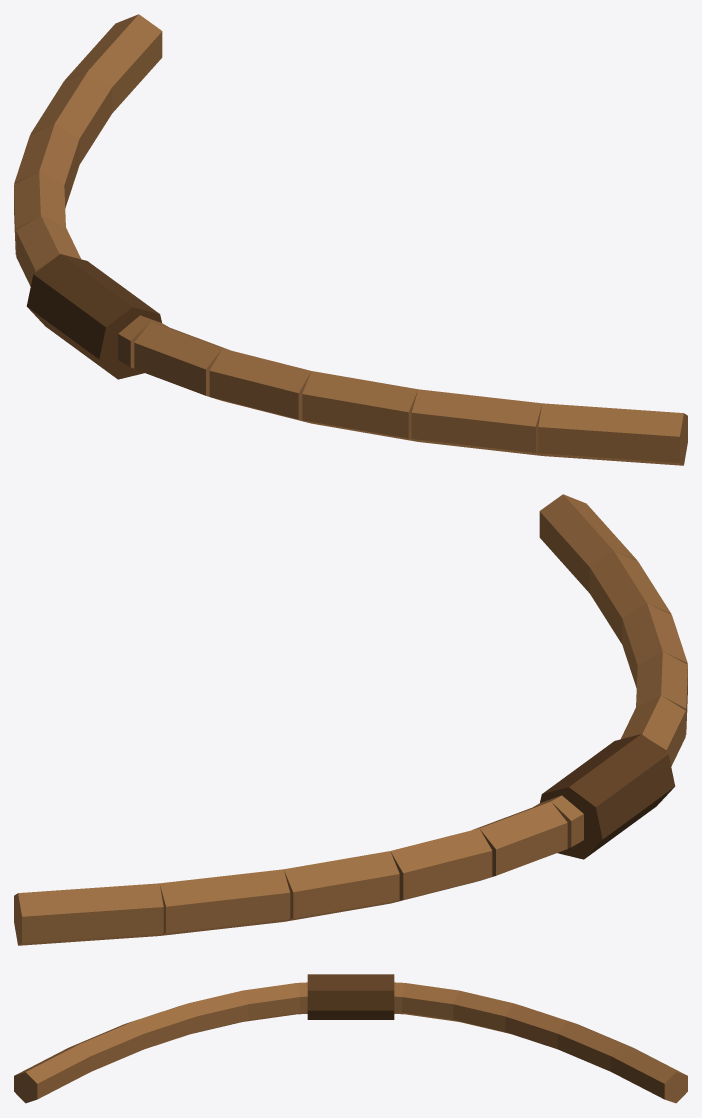
Rendered from drop_bow_unstrung.glb.
3 views of the same model, one above another, from view 1: azimuth 30°, elevation 25°; view 2: azimuth 150°, elevation 25°; view 3: azimuth 270°, elevation 25° (orthographic). The views are drawn at different scales.
Parts seen in each view (by area): view 1: drop_bow_unstrung; view 2: drop_bow_unstrung; view 3: drop_bow_unstrung.
Part boxes in pixels (x1,y1,x2,y2): drop_bow_unstrung: (14,14,687,465); drop_bow_unstrung: (14,494,687,945); drop_bow_unstrung: (14,974,687,1103).
Bounding box in the file's own units: 0.2302 × 0.0418 × 0.6214.
